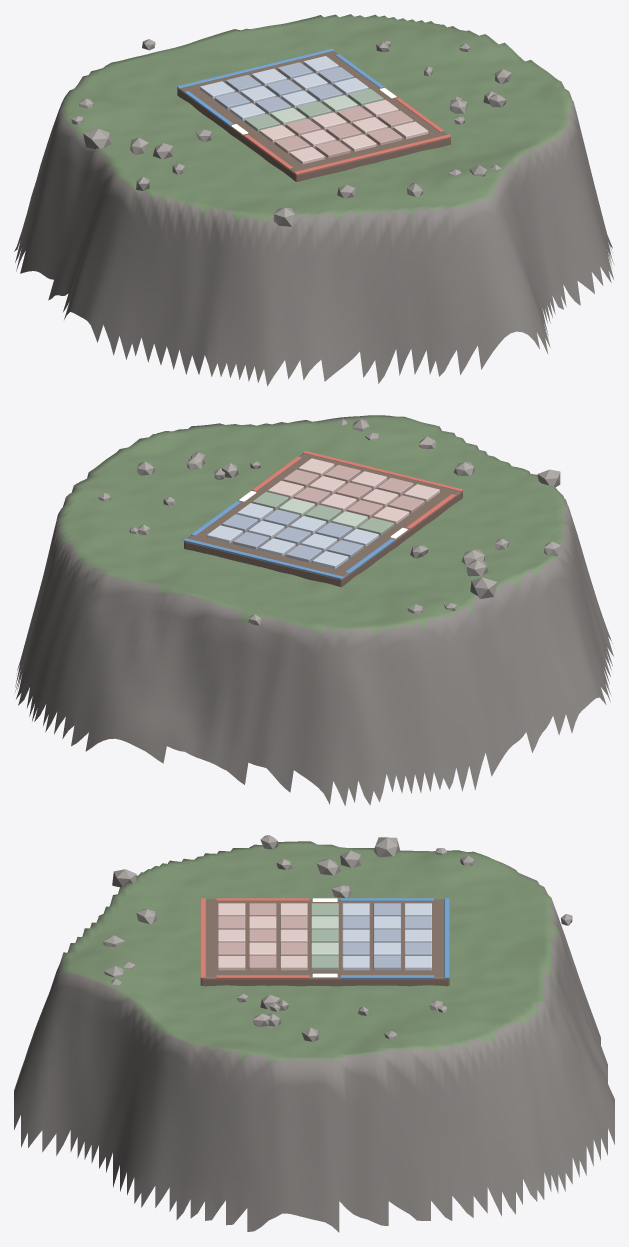
Rendered from terrain_single.glb.
3 views of the same model, one above another, from view 1: azimuth 30°, elevation 25°; view 2: azimuth 150°, elevation 25°; view 3: azimuth 270°, elevation 25° (orthographic). The views are drawn at different scales.
Parts seen in each view (by area): view 1: island, P1_plateau, P1_trim_north, P1_trim_south; view 2: island, P1_plateau, P1_trim_south, P1_trim_north; view 3: island, P1_plateau.
Boxes of the visible parts, box(x1,y1,x2,y2) form: island: box(14, 14, 614, 386); P1_plateau: box(177, 51, 450, 181); P1_trim_north: box(294, 134, 451, 174); P1_trim_south: box(177, 48, 334, 88); island: box(15, 415, 613, 805); P1_plateau: box(184, 453, 462, 587); P1_trim_south: box(183, 538, 343, 579); P1_trim_north: box(303, 451, 463, 491); island: box(14, 841, 614, 1232); P1_plateau: box(200, 899, 449, 986).
Bounding box in the file's own units: 21.25 × 6.85 × 21.25.
